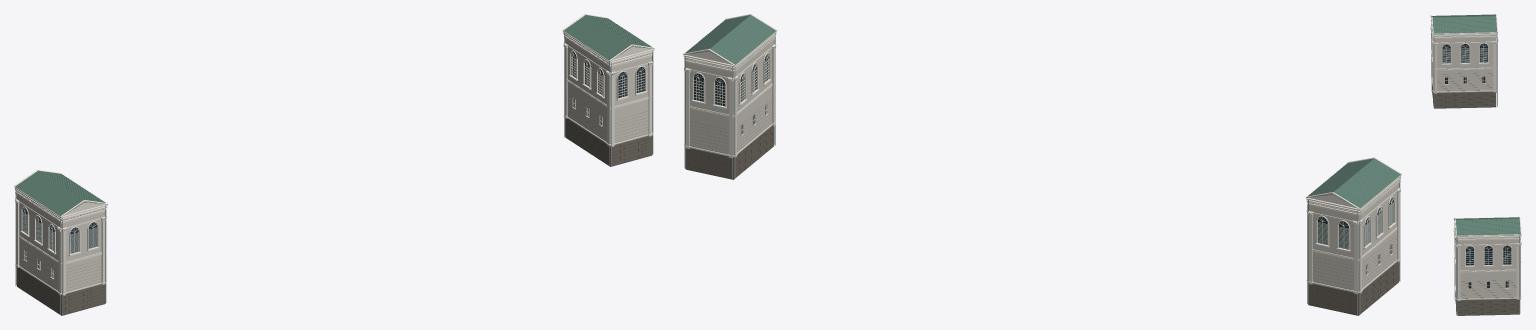
File: senate-pavilions.glb
The picture shows the model from 3 angles, left to right: view 1: azimuth 30°, elevation 25°; view 2: azimuth 150°, elevation 25°; view 3: azimuth 270°, elevation 25°; orthographic projection. The views are drawn at different scales.
Visible parts, largest first — view 1: East chapel — RATU 213 limewash, West bell tower — RATU 212 limewash, East chapel — RATU 213 trim, West bell tower — RATU 212 trim, West bell tower — RATU 212 granite, East chapel — RATU 213 granite, West bell tower — RATU 212 copper, East chapel — RATU 213 copper, West bell tower — RATU 212 shutter, East chapel — RATU 213 glass, East chapel — RATU 213 shutter, West bell tower — RATU 212 glass; view 2: East chapel — RATU 213 limewash, West bell tower — RATU 212 limewash, East chapel — RATU 213 trim, West bell tower — RATU 212 trim, West bell tower — RATU 212 granite, West bell tower — RATU 212 copper, East chapel — RATU 213 granite, East chapel — RATU 213 copper, West bell tower — RATU 212 shutter, East chapel — RATU 213 glass, East chapel — RATU 213 shutter, West bell tower — RATU 212 glass; view 3: East chapel — RATU 213 limewash, West bell tower — RATU 212 limewash, East chapel — RATU 213 trim, West bell tower — RATU 212 trim, West bell tower — RATU 212 copper, West bell tower — RATU 212 granite, East chapel — RATU 213 granite, East chapel — RATU 213 copper, West bell tower — RATU 212 shutter, East chapel — RATU 213 glass, West bell tower — RATU 212 glass, East chapel — RATU 213 shutter (+2 smaller).
Boxes of the visible parts, box(x1,y1,x2,y2) form: East chapel — RATU 213 limewash: box(565, 39, 651, 143); West bell tower — RATU 212 limewash: box(17, 195, 105, 292); East chapel — RATU 213 trim: box(562, 14, 654, 146); West bell tower — RATU 212 trim: box(14, 169, 107, 295); West bell tower — RATU 212 granite: box(17, 202, 105, 315); East chapel — RATU 213 granite: box(565, 46, 652, 166); West bell tower — RATU 212 copper: box(15, 170, 105, 216); East chapel — RATU 213 copper: box(563, 15, 652, 60); West bell tower — RATU 212 shutter: box(15, 189, 106, 315); East chapel — RATU 213 glass: box(571, 51, 644, 125); East chapel — RATU 213 shutter: box(564, 33, 653, 166); West bell tower — RATU 212 glass: box(23, 207, 97, 277); East chapel — RATU 213 limewash: box(686, 40, 773, 157); West bell tower — RATU 212 limewash: box(1309, 183, 1398, 293); East chapel — RATU 213 trim: box(683, 14, 776, 158); West bell tower — RATU 212 trim: box(1305, 157, 1401, 294); West bell tower — RATU 212 granite: box(1309, 194, 1398, 315); West bell tower — RATU 212 copper: box(1308, 158, 1400, 208); East chapel — RATU 213 granite: box(686, 51, 773, 179); East chapel — RATU 213 copper: box(685, 15, 775, 64); West bell tower — RATU 212 shutter: box(1307, 177, 1400, 315); East chapel — RATU 213 glass: box(694, 54, 768, 134); East chapel — RATU 213 shutter: box(684, 33, 775, 179); West bell tower — RATU 212 glass: box(1318, 197, 1393, 274); East chapel — RATU 213 limewash: box(1455, 235, 1519, 299); West bell tower — RATU 212 limewash: box(1432, 33, 1495, 92); East chapel — RATU 213 trim: box(1453, 217, 1521, 300); West bell tower — RATU 212 trim: box(1430, 14, 1498, 93); West bell tower — RATU 212 copper: box(1432, 14, 1496, 33); West bell tower — RATU 212 granite: box(1432, 63, 1496, 108); East chapel — RATU 213 granite: box(1455, 274, 1520, 315); East chapel — RATU 213 copper: box(1455, 217, 1520, 235); West bell tower — RATU 212 shutter: box(1431, 24, 1497, 108); East chapel — RATU 213 glass: box(1455, 238, 1511, 288); West bell tower — RATU 212 glass: box(1432, 35, 1487, 83); East chapel — RATU 213 shutter: box(1454, 227, 1520, 315).
Size of the model in its own units: 132 by 24.12 by 22.62.
